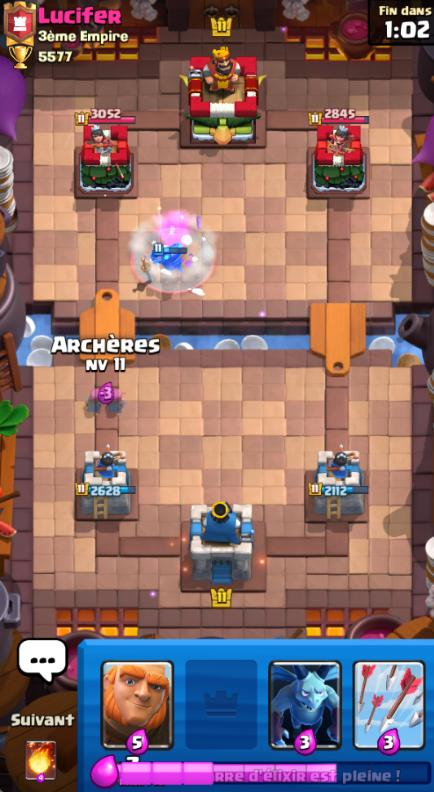archere: (109, 386, 126, 412), (85, 388, 102, 413)
mini_PEKKA: (148, 242, 191, 273)
